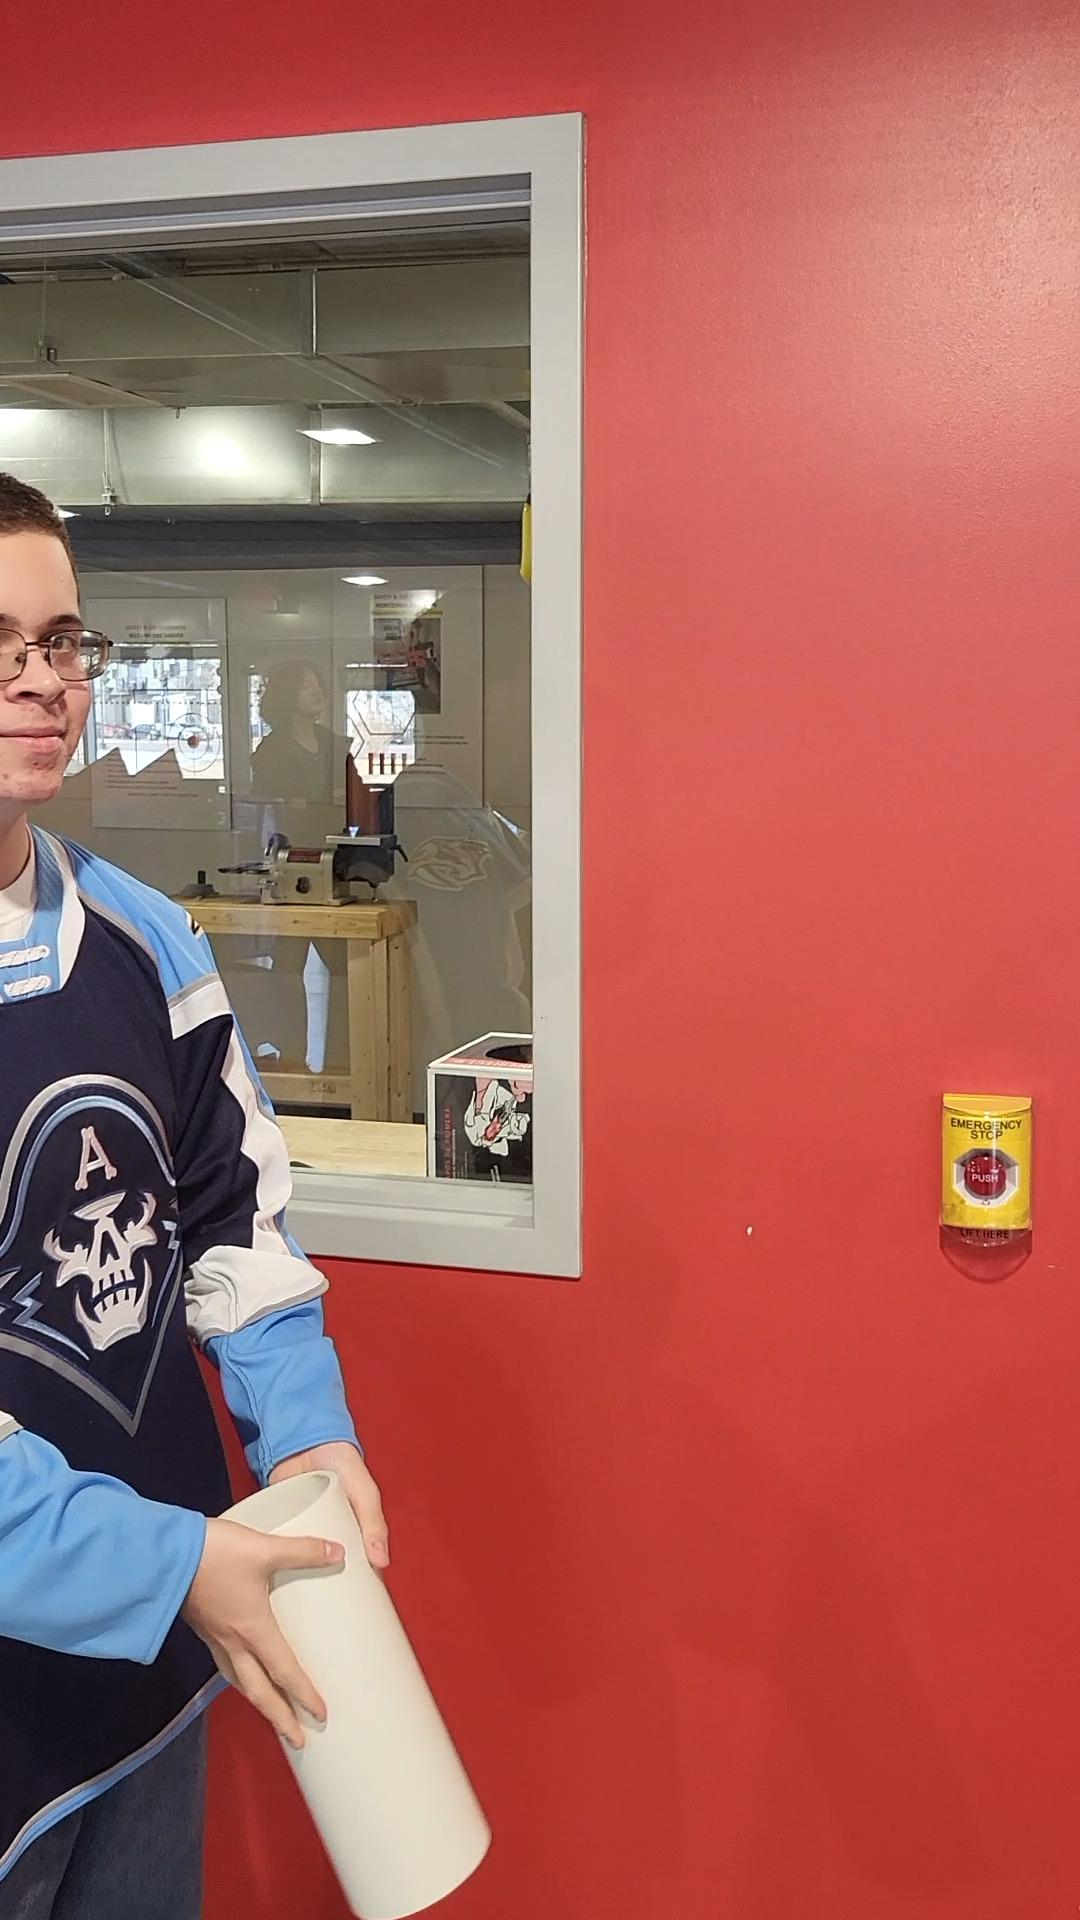coral: (214, 1470, 497, 1920)
